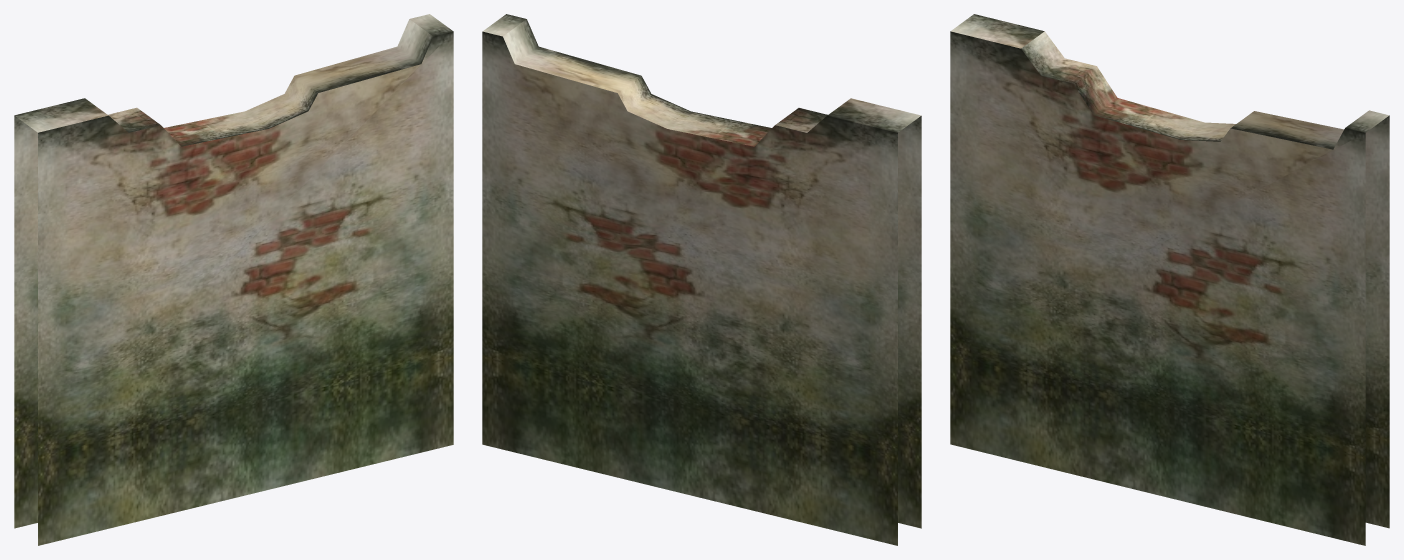
Rendered from TallWallStucco_Broken20.fbx.
The picture shows the model from 3 angles, left to right: view 1: azimuth 30°, elevation 25°; view 2: azimuth 150°, elevation 25°; view 3: azimuth 330°, elevation 25°; orthographic projection.
Visible parts, largest first — view 1: lod_high; view 2: lod_high; view 3: lod_high.
Boxes of the visible parts, <box> form: lod_high: <box>14,14,453,545</box>; lod_high: <box>482,14,921,545</box>; lod_high: <box>950,14,1389,545</box>.
Size of the model in its own units: 2000 by 1900 by 200.
1 material, 1 textured.
